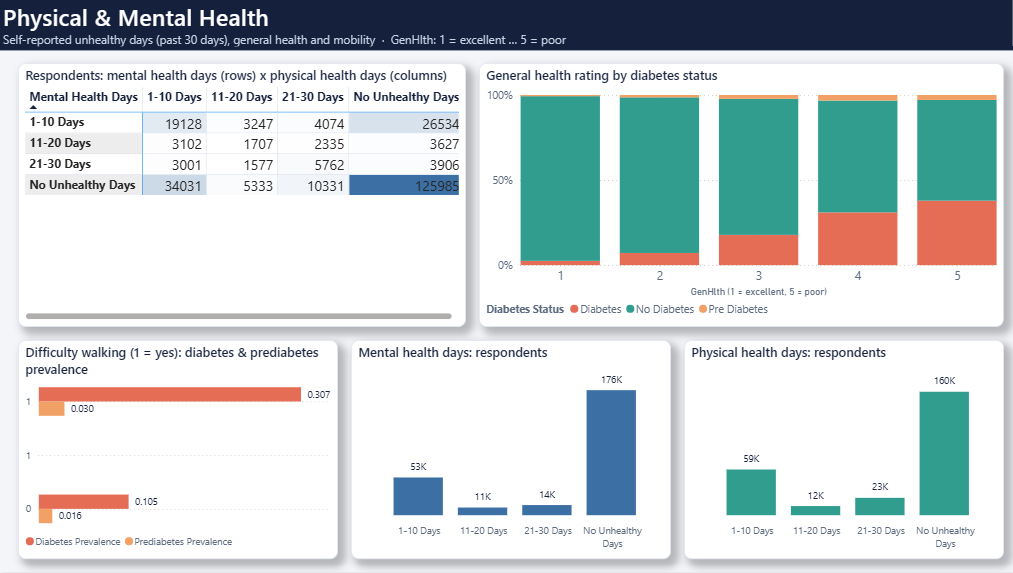

The page's visual inventory and layout, read from the dashboard file:
{"tool":"powerbi","page":{"name":"03 - Physical & Mental Health","canvas":[1280,720],"ordinal":2},"visuals":[{"type":"textbox","box":[0,0,1280,68],"z":1000},{"type":"pivotTable","title":"Respondents: mental health days (rows) x physical health days (columns)","fields":{"Rows":["BRFSS2015.Mental Health Days"],"Columns":["BRFSS2015.Physical Health Days"],"Values":["BRFSS2015.Total Respondents"]},"box":[24,84,560,330],"z":2000},{"type":"hundredPercentStackedColumnChart","title":"General health rating by diabetes status","fields":{"Category":["BRFSS2015.GenHlth"],"Series":["BRFSS2015.Diabetes Status"],"Y":["BRFSS2015.Total Respondents"]},"box":[600,84,656,330],"z":3000},{"type":"clusteredBarChart","title":"Difficulty walking (1 = yes): diabetes & prediabetes prevalence","fields":{"Category":["BRFSS2015.DiffWalk"],"Y":["BRFSS2015.Diabetes Prevalence","BRFSS2015.Prediabetes Prevalence"]},"box":[24,430,400,274],"z":4000},{"type":"clusteredColumnChart","title":"Mental health days: respondents","fields":{"Category":["BRFSS2015.Mental Health Days"],"Y":["BRFSS2015.Total Respondents"]},"box":[440,430,400,274],"z":5000},{"type":"clusteredColumnChart","title":"Physical health days: respondents","fields":{"Category":["BRFSS2015.Physical Health Days"],"Y":["BRFSS2015.Total Respondents"]},"box":[856,430,400,274],"z":6000}]}

Visuals, with their boxes in screenshot pixels (x1, y1, x2, y2), scaled from the page's 1280x720 canvas onto the 1013x573 screenshot:
textbox: [left=0, top=0, right=1012, bottom=54]
"Respondents: mental health days (rows) x physical health days (columns)" pivotTable: [left=19, top=67, right=462, bottom=329]
"General health rating by diabetes status" hundredPercentStackedColumnChart: [left=475, top=67, right=994, bottom=329]
"Difficulty walking (1 = yes): diabetes & prediabetes prevalence" clusteredBarChart: [left=19, top=342, right=336, bottom=560]
"Mental health days: respondents" clusteredColumnChart: [left=348, top=342, right=665, bottom=560]
"Physical health days: respondents" clusteredColumnChart: [left=677, top=342, right=994, bottom=560]
